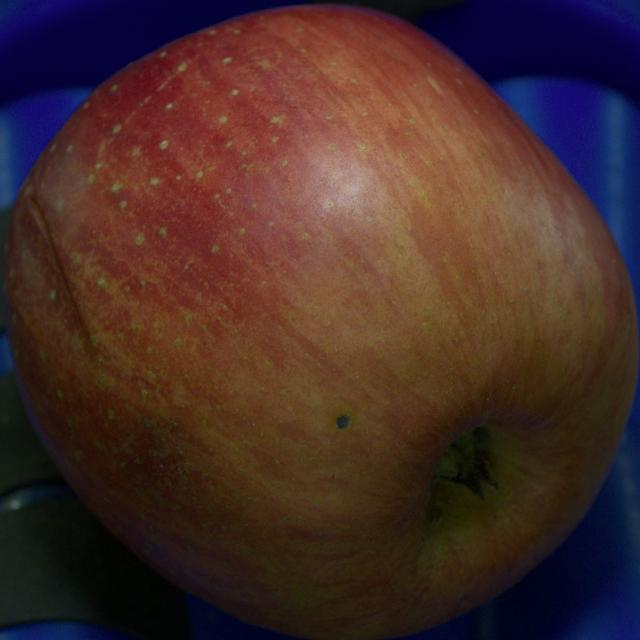apple: (2, 6, 639, 639)
bruise: (14, 207, 95, 369)
pest: (336, 415, 350, 428)
scratch: (30, 199, 89, 344)
